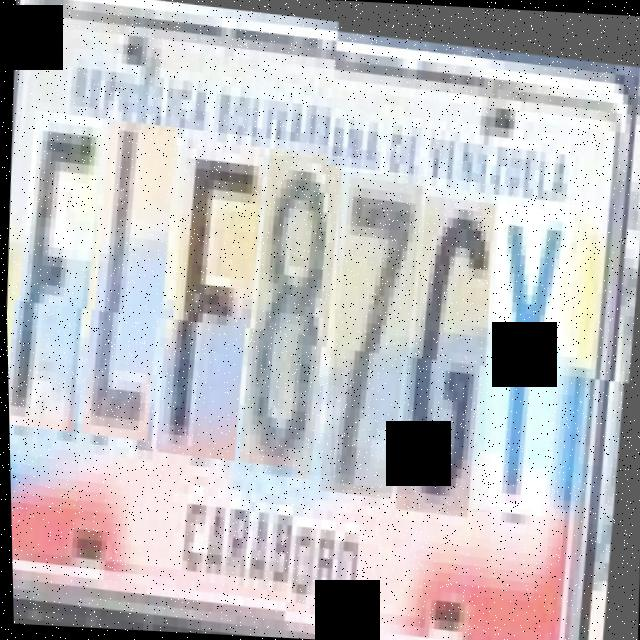7: (322, 172, 429, 494)
8: (240, 154, 348, 477)
F: (159, 145, 271, 468), (6, 120, 108, 442)
G: (397, 188, 505, 512)
L: (83, 128, 185, 450)
Y: (475, 197, 581, 510)
